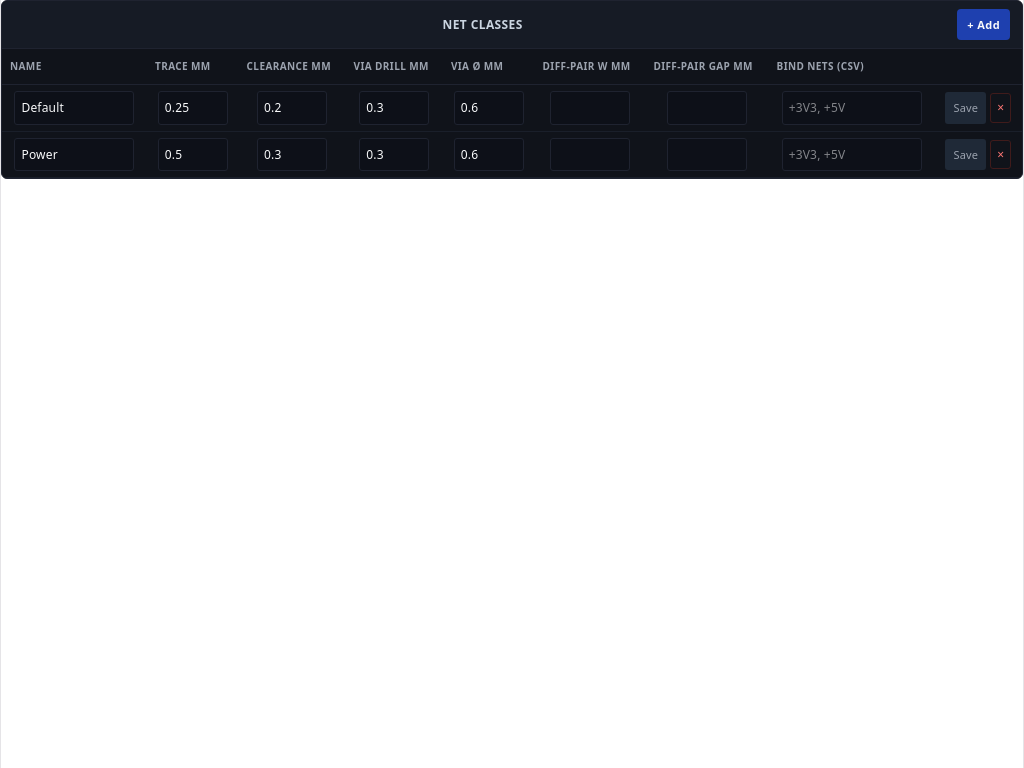
Test case: NetClassPanel › Add appends a new row at the bottom
Expected: the number of rows with test id "netclass-row" is 2, [2, 85, 1022, 131]; [2, 131, 1022, 177]
What coordinates should you click on to do the following:
click the button with test id "netclass-add"
I would click on:
 (984, 25)
Its box is [957, 9, 1010, 40].
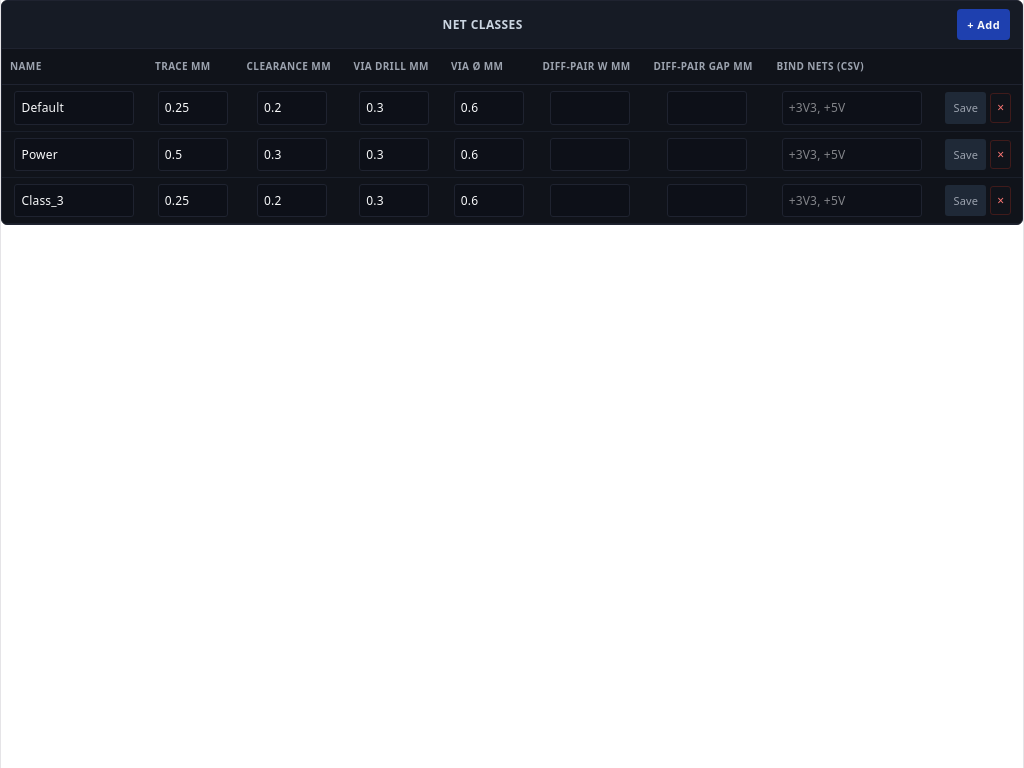
Now the number of rows with test id "netclass-row" is 3, box [2, 85, 1022, 131]; [2, 131, 1022, 177]; [2, 177, 1022, 224]
